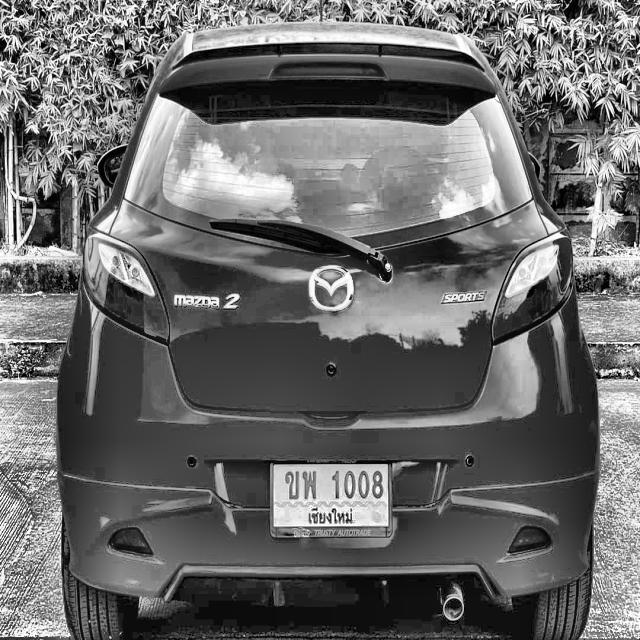license-plate: (269, 461, 394, 539)
